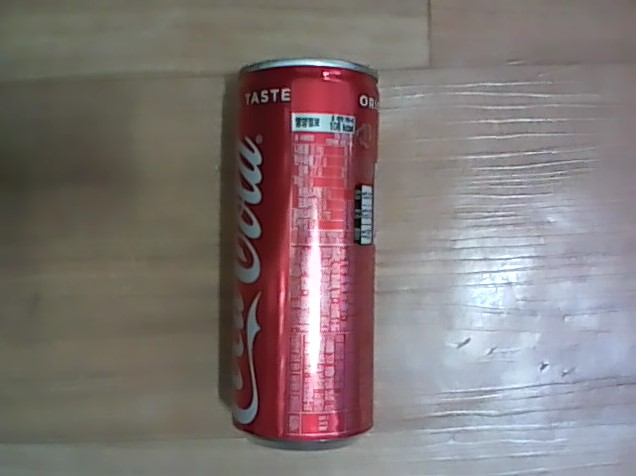Can: (224, 50, 387, 449)
